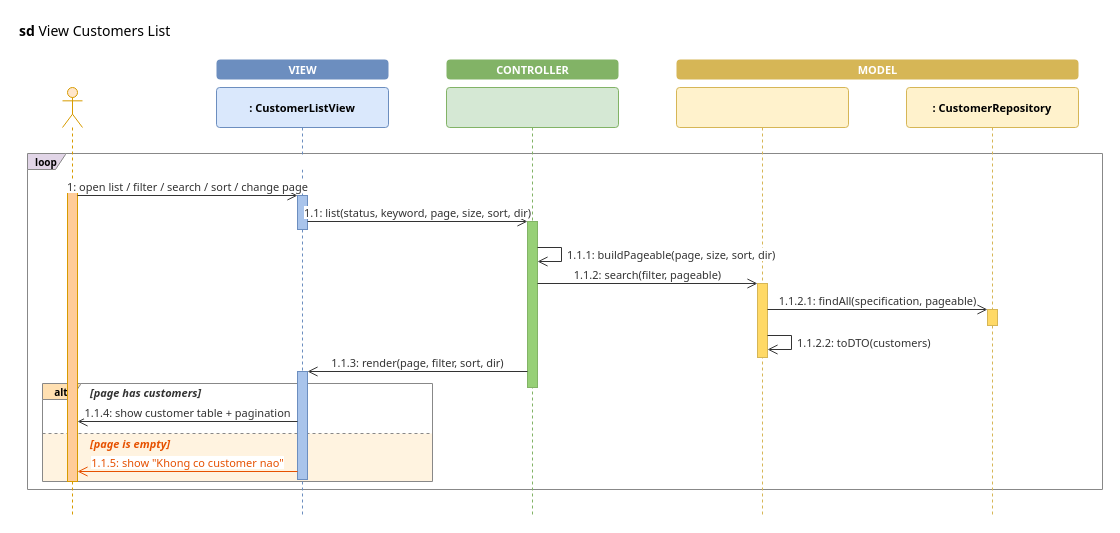
Some shapes in this 1120 by 533 pixel diagram are drawn without their labels. The box of each missing label's shape, as (x1, y1, x2, y2) in pixels:
: CustomerController: (446, 86, 618, 516)
: CustomerService: (676, 86, 848, 516)
: Marketing: (62, 86, 82, 516)
[Marketing opens the list, filters, searches, sorts or changes page]: (81, 155, 481, 169)
